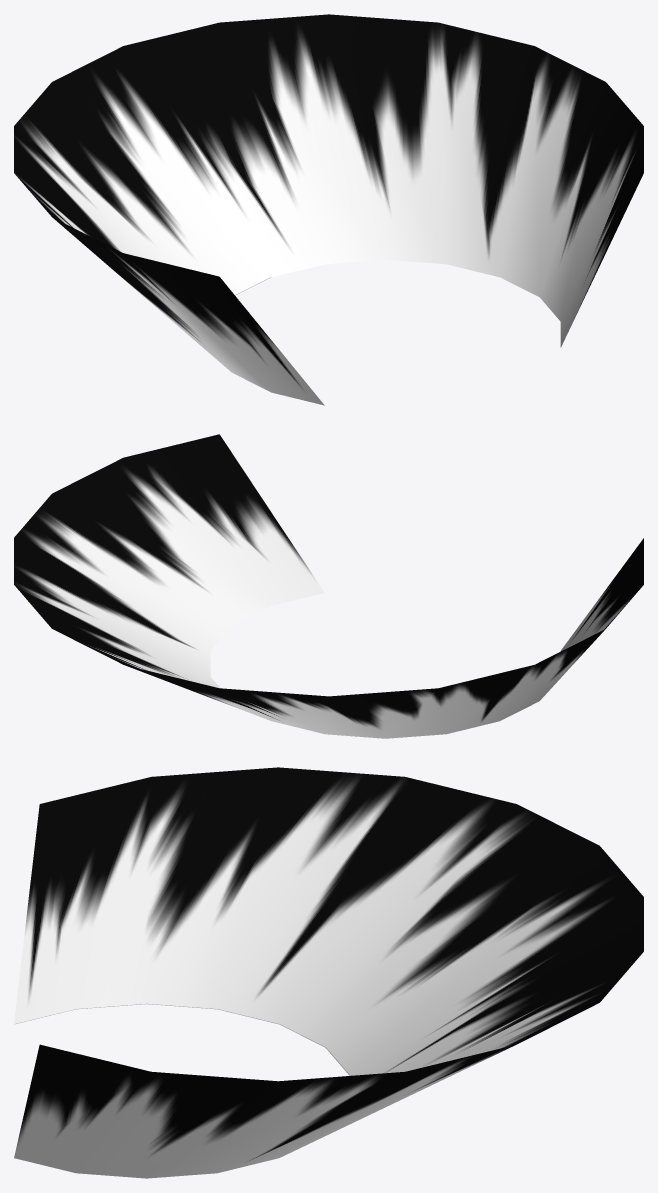
The model's file is dash_efe2.FBX.
The picture shows the model from 3 angles, top to bottom: view 1: azimuth 30°, elevation 25°; view 2: azimuth 150°, elevation 25°; view 3: azimuth 270°, elevation 25°; orthographic projection. The views are drawn at different scales.
Visible parts, largest first — view 1: Cylinder001; view 2: Cylinder001; view 3: Cylinder001.
Part boxes in pixels (x1,y1,x2,y2): Cylinder001: (14, 14, 643, 405); Cylinder001: (14, 434, 643, 738); Cylinder001: (14, 767, 643, 1178).
Size of the model in its own units: 64.28 by 15.95 by 54.53.
Materials: 1 (1 with a texture image).
